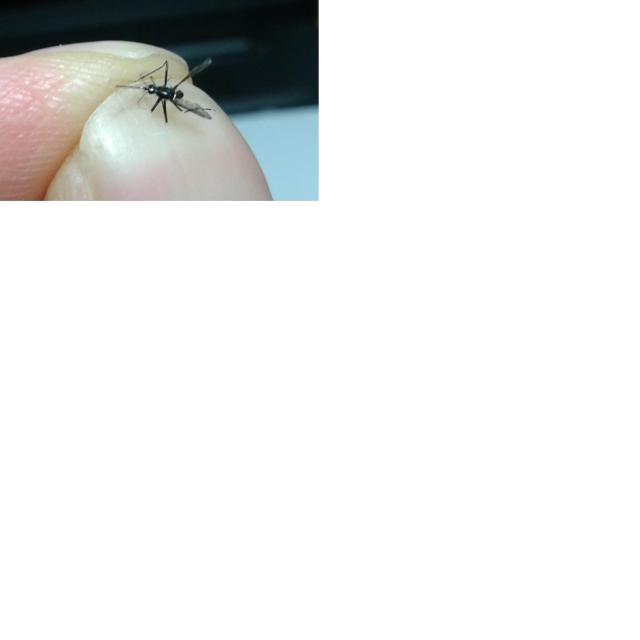albopictus: (114, 50, 214, 126)
